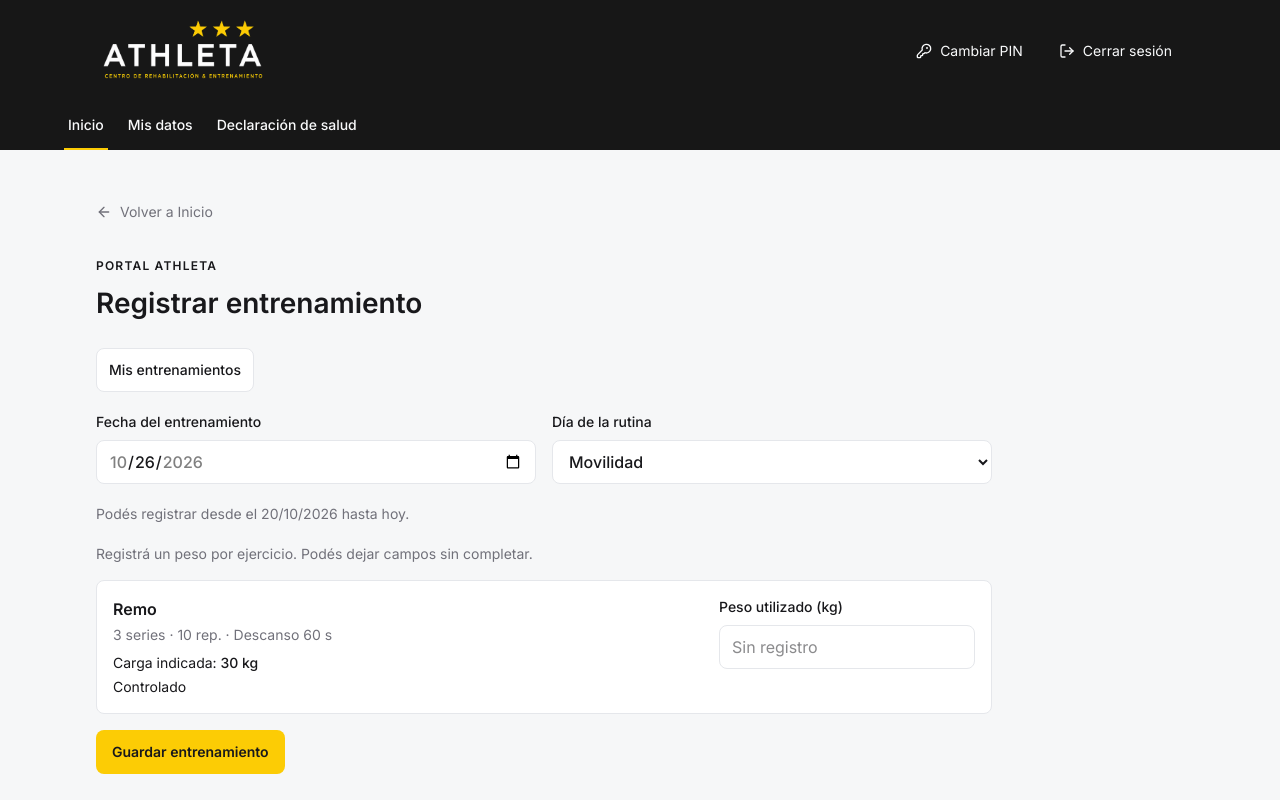
Scenario: opens the selected day, keeps prescriptions read-only and saves comma decimal/null with the original routine ID
The width and height of the screenshot is (1280, 800).
Expected: the heading "Remo" is shown, [113,599,157,619]
Expected: the date field labelled "Fecha del entrenamiento" holds "2026-10-26", [96,440,536,484]
Select "Fuerza" in the dropdown labelled "Día de la rutina" at (772, 462), box [552,440,992,484]
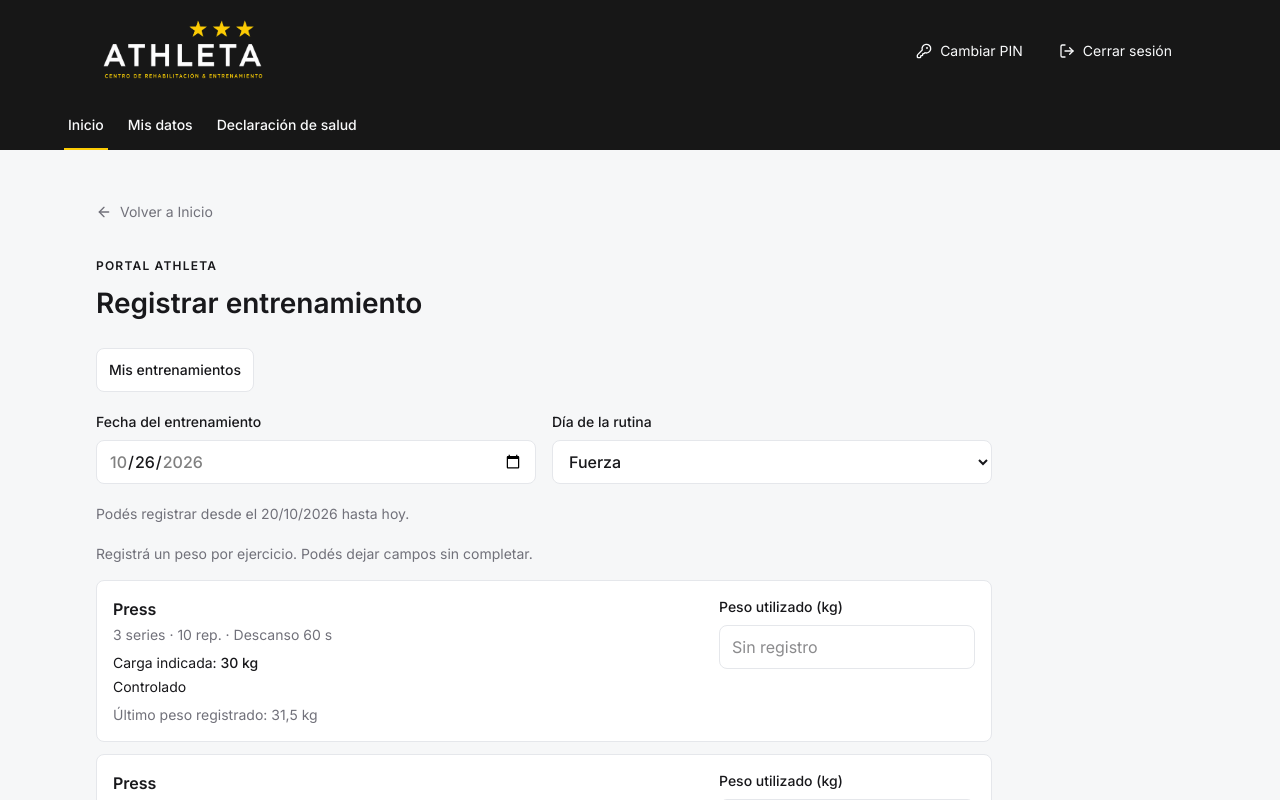
Expected: the text "30 kg" is shown 2 times
Expected: the text "Último peso registrado: 31,5 kg" is shown, [113,706,318,723]
Type "32,5" into the 1st field labelled "Peso utilizado (kg)" at (847, 647), box [719,625,975,669]
(page scrolled)
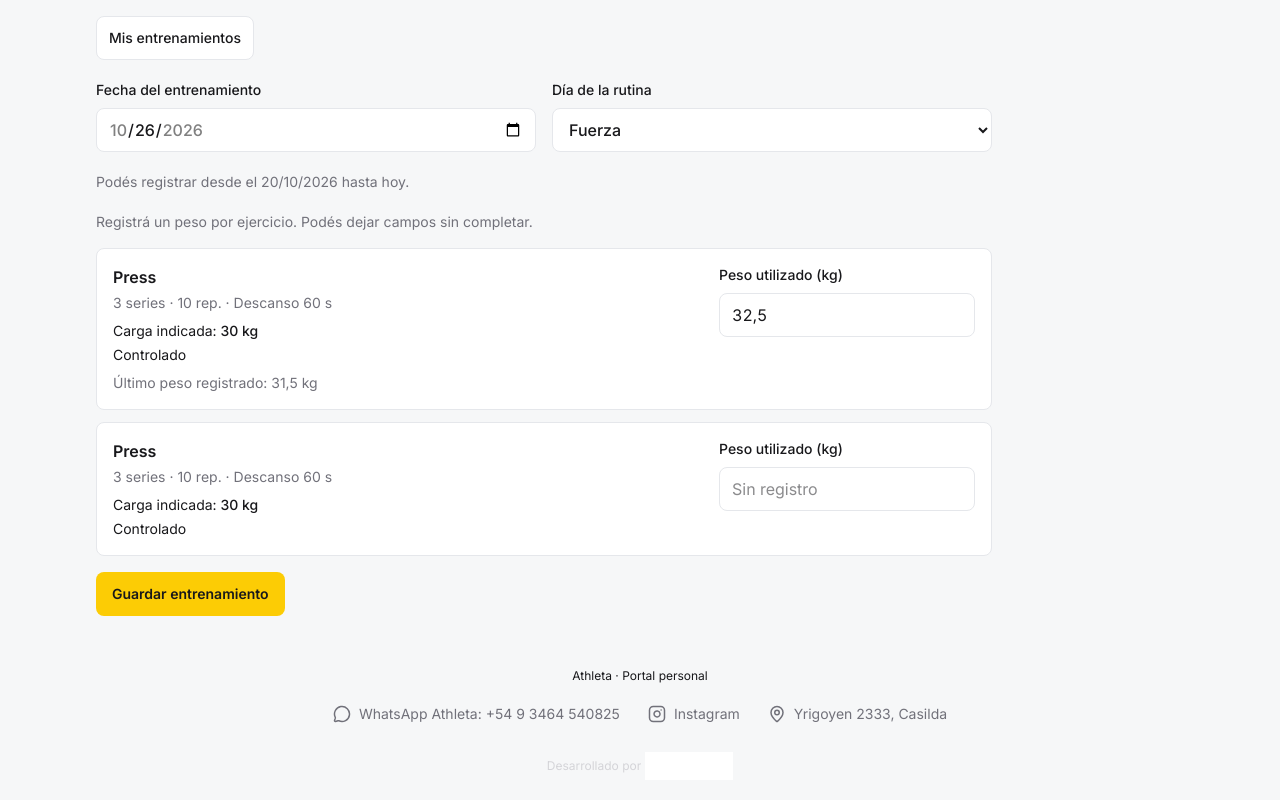
Click the button "Guardar entrenamiento" at (190, 594), box [96,572,285,616]
(page scrolled)
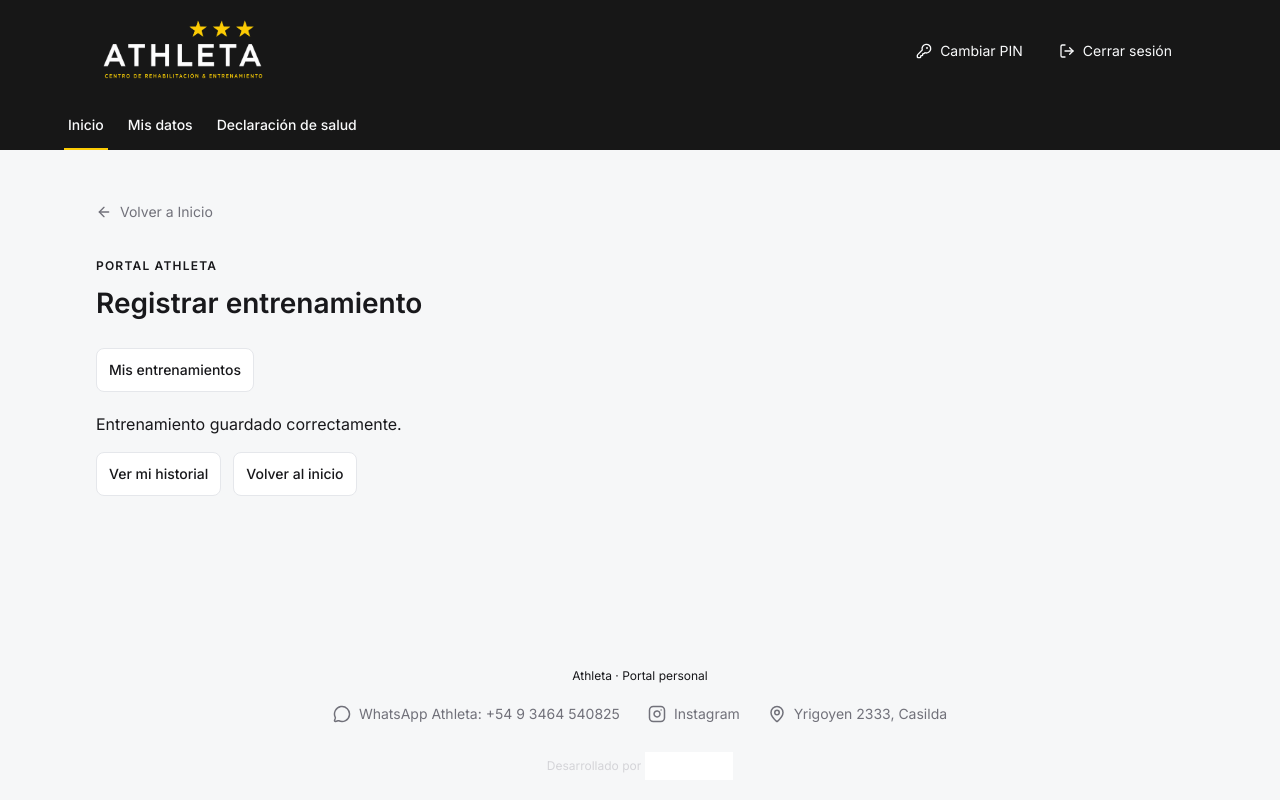
Expected: the text "Entrenamiento guardado correctamente." is shown, [96,414,402,434]
